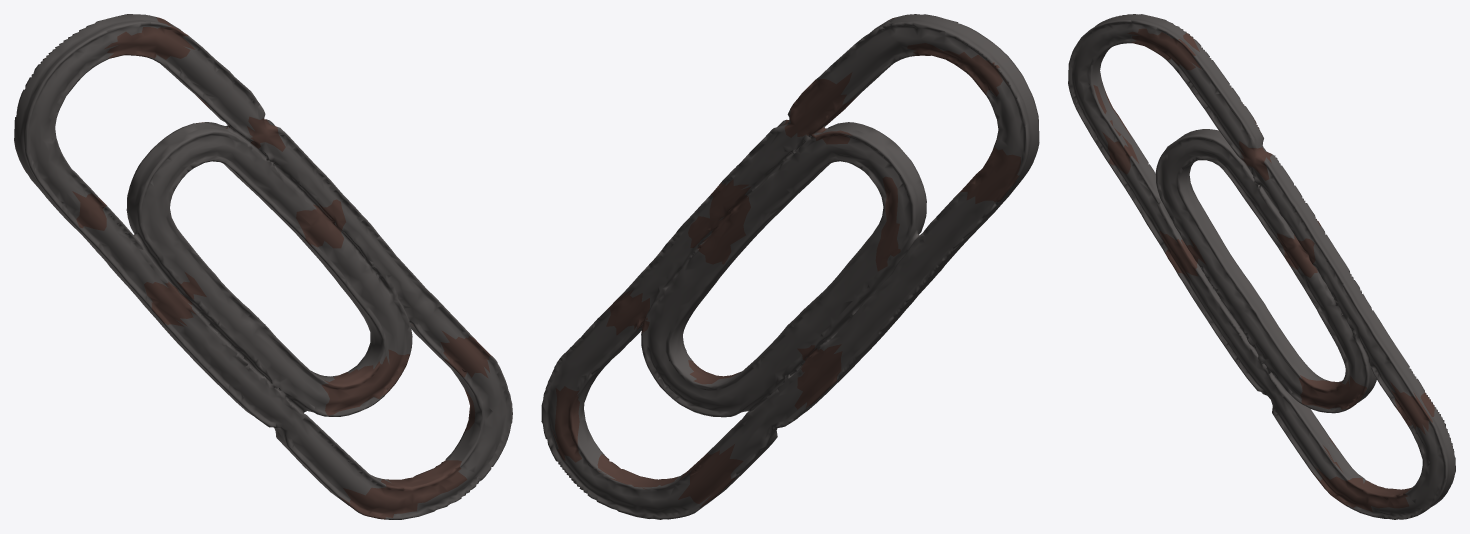
Rendered from clip_completo_pintado.fbx.
3 renders of one model, left to right at view 1: azimuth 30°, elevation 25°; view 2: azimuth 150°, elevation 25°; view 3: azimuth 330°, elevation 25°, orthographic. The views are drawn at different scales.
Visible parts, largest first — view 1: tmp4linljul.ply; view 2: tmp4linljul.ply; view 3: tmp4linljul.ply.
Part boxes in pixels (x1,y1,x2,y2): tmp4linljul.ply: (14,14,512,519); tmp4linljul.ply: (541,14,1039,519); tmp4linljul.ply: (1068,14,1455,519).
Bounding box in the file's own units: 180 × 199 × 10.
